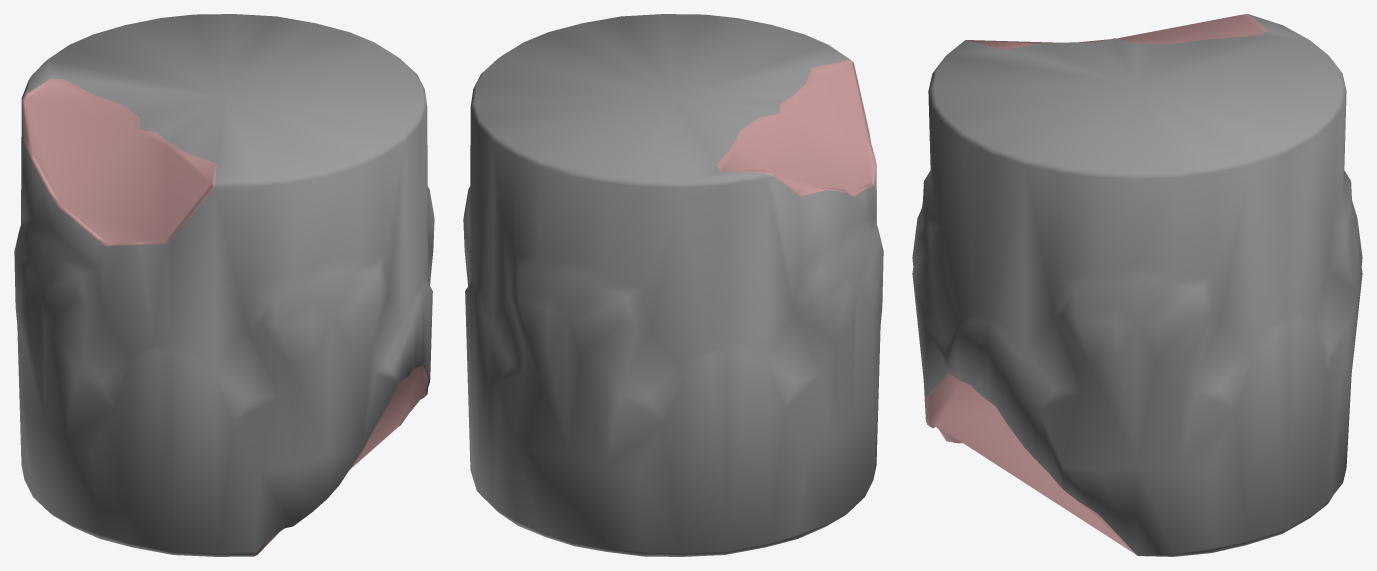
Rendered from RuineBroken4.FBX.
The picture shows the model from 3 angles, left to right: view 1: azimuth 30°, elevation 25°; view 2: azimuth 150°, elevation 25°; view 3: azimuth 270°, elevation 25°; orthographic projection. The views are drawn at different scales.
Visible parts, largest first — view 1: Ruine4; view 2: Ruine4; view 3: Ruine4.
Boxes of the visible parts, x1=… form: Ruine4: x1=14, y1=14, x2=434, y2=556; Ruine4: x1=463, y1=14, x2=883, y2=556; Ruine4: x1=912, y1=14, x2=1362, y2=556.
Size of the model in its own units: 116 by 110 by 116.
